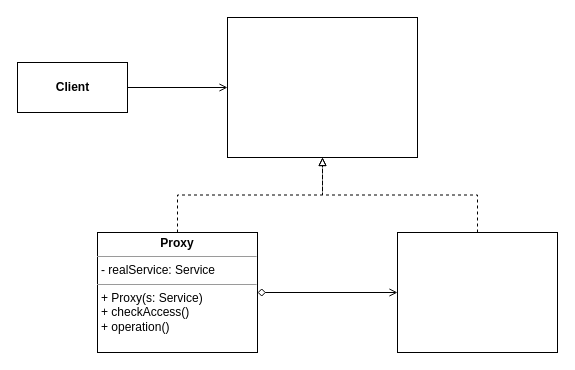
Some shapes in this 575 by 370 pixel diagram are drawn without their labels. The shapes that lost their labels are listed below. From the top down, each one's box as (x1, y1, x2, y2) in pixels, then its label:
(226, 16, 418, 158): <<Interface>> ServiceInterface + operation()
(396, 232, 558, 352): Service ... + operation()
